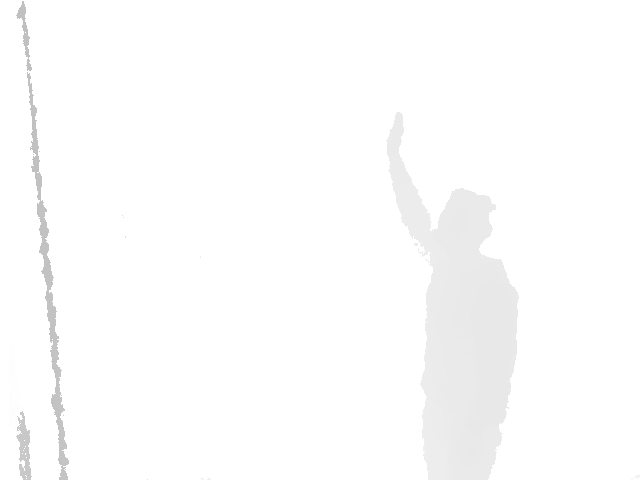hand: (387, 113, 405, 157)
head: (437, 188, 496, 250)
person: (386, 112, 520, 480)
